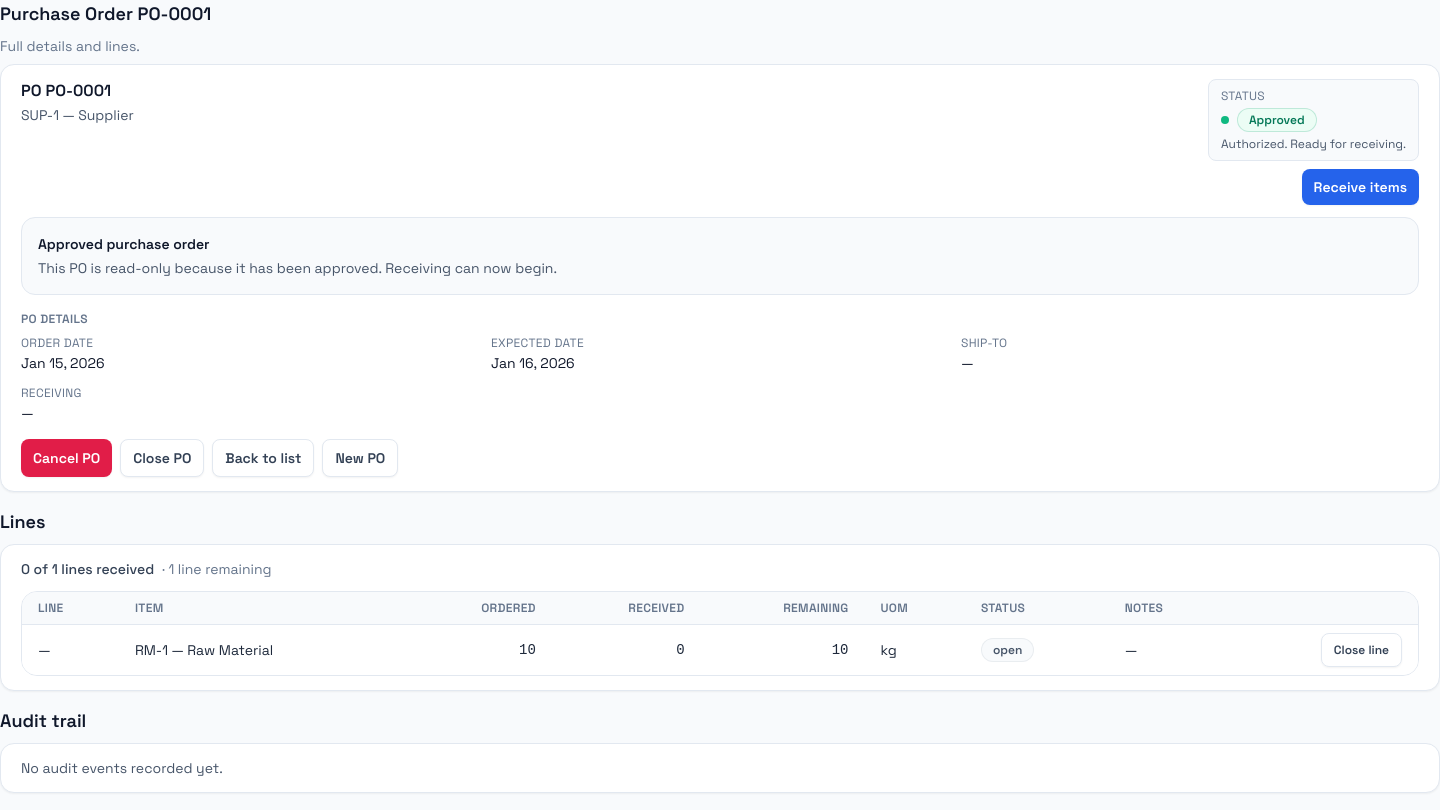
Test: PurchaseOrderDetailPage › shows header and line close entrypoints for approved purchase orders
Check: the button "Close line" is shown, box [1321,633,1402,667]
What coordinates should you click on to do the following:
click the button "Close PO"
I would click on:
 (162, 458)
Its box is [120,439,204,477].
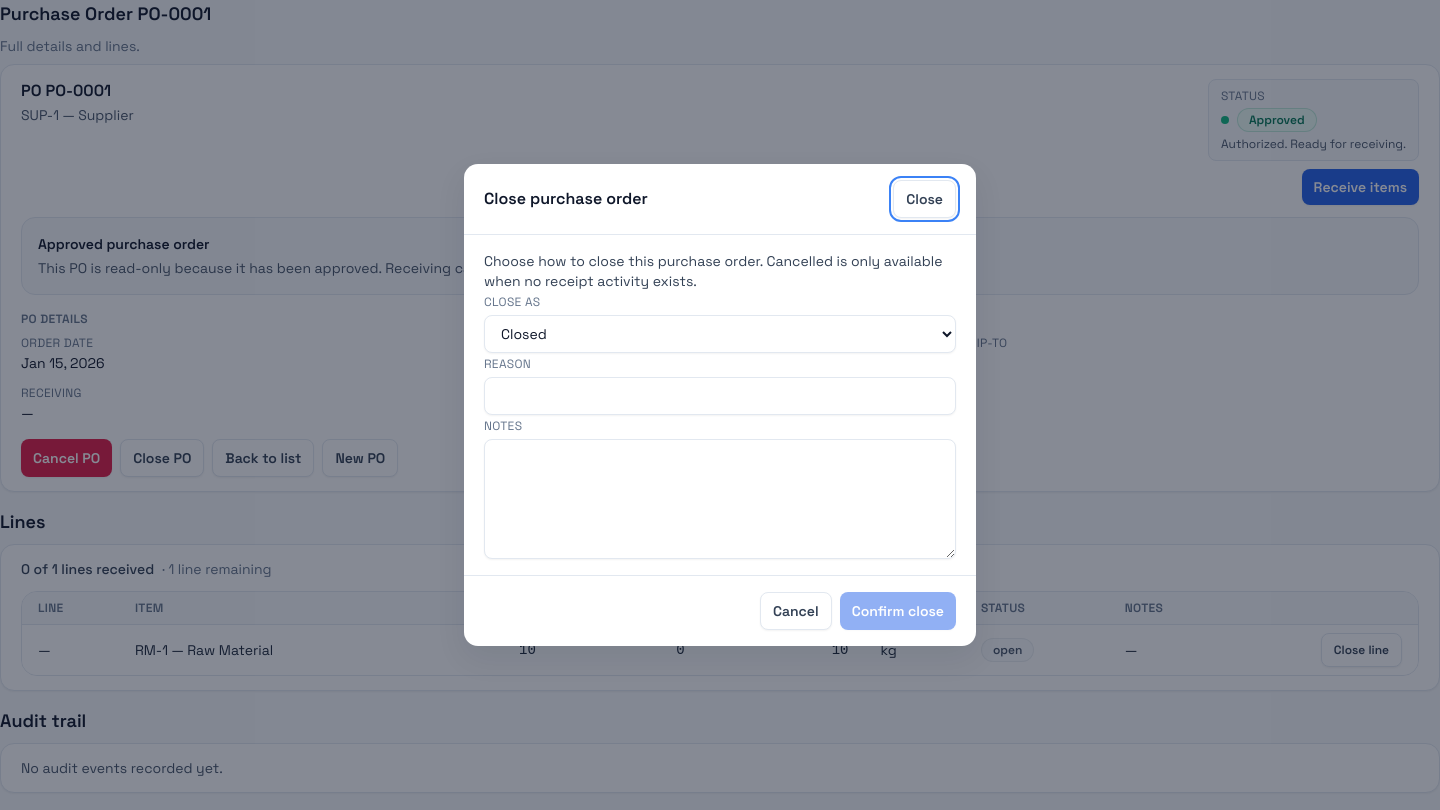
Check: the text "Close purchase order" is shown, box [484,187,648,211]
